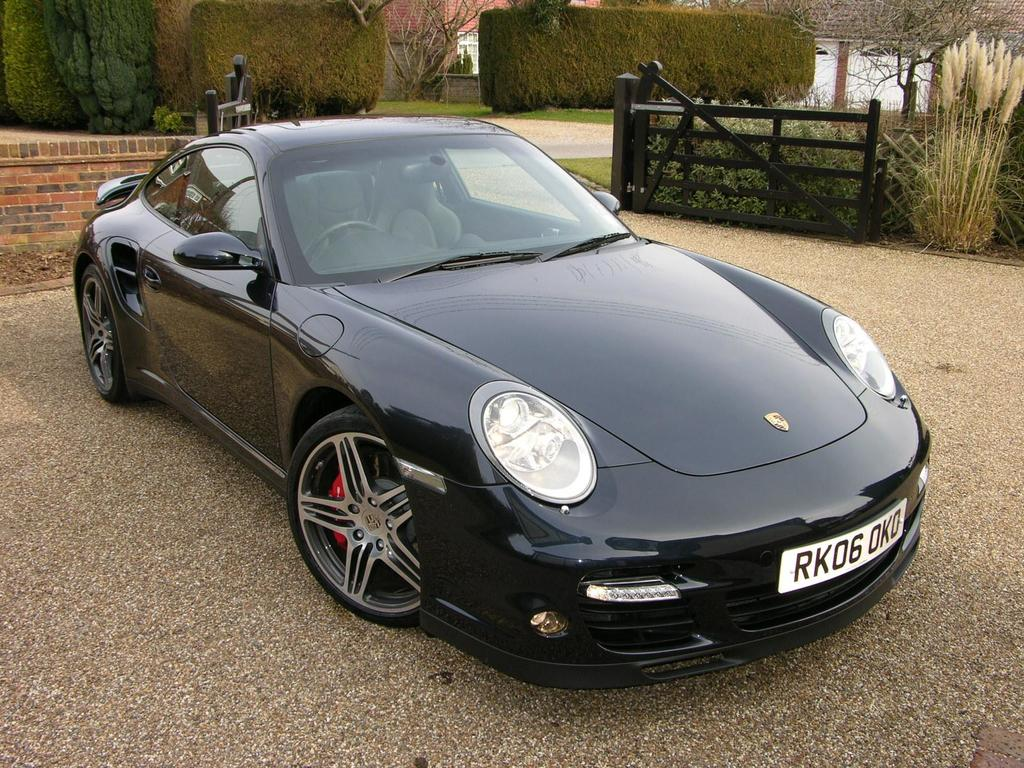Car: (68, 110, 944, 693)
